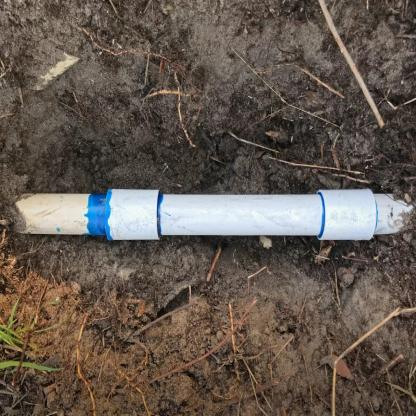PVC: (13, 186, 411, 242)
